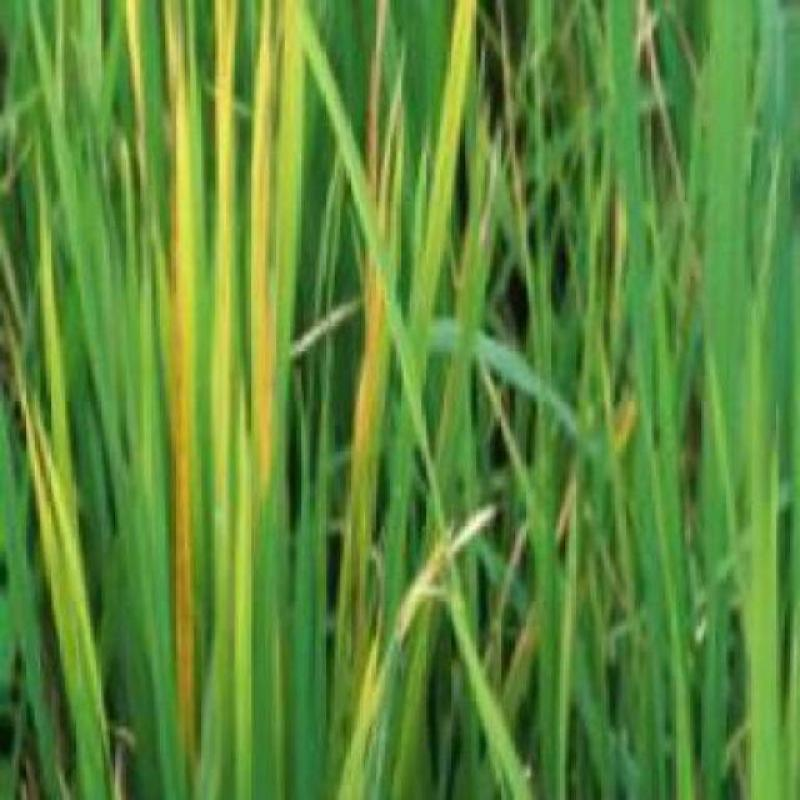Rice Tungro: (142, 4, 198, 758), (18, 381, 108, 738), (200, 4, 239, 728), (246, 2, 300, 494), (345, 100, 391, 644), (410, 2, 490, 298), (34, 175, 64, 389)
